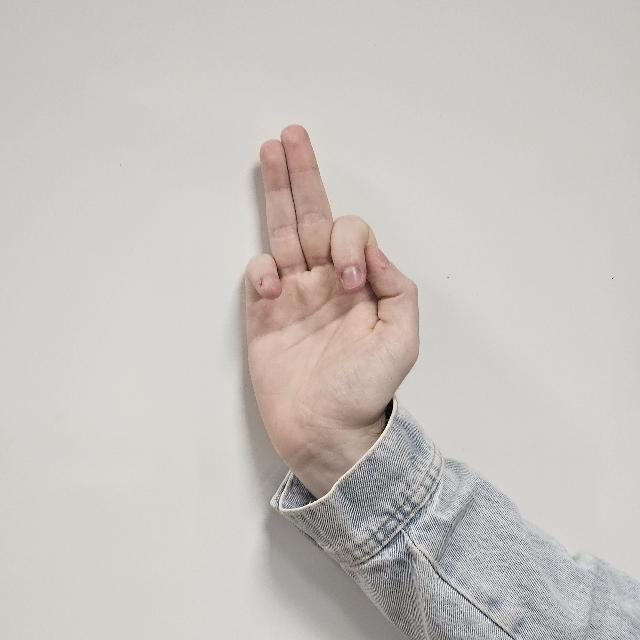R: (235, 123, 420, 474)
